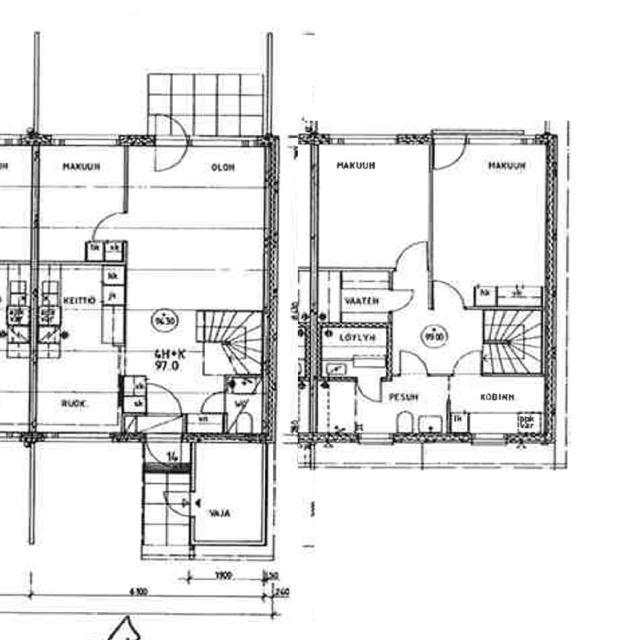door: (150, 116, 190, 176), (430, 132, 468, 172), (391, 238, 432, 273), (142, 434, 184, 467), (144, 383, 181, 417), (428, 277, 466, 310), (394, 347, 430, 379), (90, 208, 126, 240), (450, 347, 483, 377), (354, 376, 384, 406), (387, 286, 416, 312), (165, 495, 192, 520), (199, 391, 226, 415)
window: (293, 146, 321, 268), (20, 444, 47, 541), (40, 428, 114, 447), (51, 132, 125, 150), (191, 135, 259, 152), (331, 132, 398, 149), (465, 130, 534, 146), (356, 431, 396, 451), (469, 432, 509, 451), (27, 183, 42, 223)
zone: (430, 131, 550, 309), (312, 142, 432, 270), (34, 144, 126, 260), (313, 376, 451, 440), (37, 262, 131, 354), (32, 346, 122, 434), (192, 440, 266, 546), (447, 374, 549, 440), (316, 323, 389, 375), (335, 270, 392, 324), (224, 378, 266, 437), (183, 414, 226, 437), (87, 240, 125, 263)
